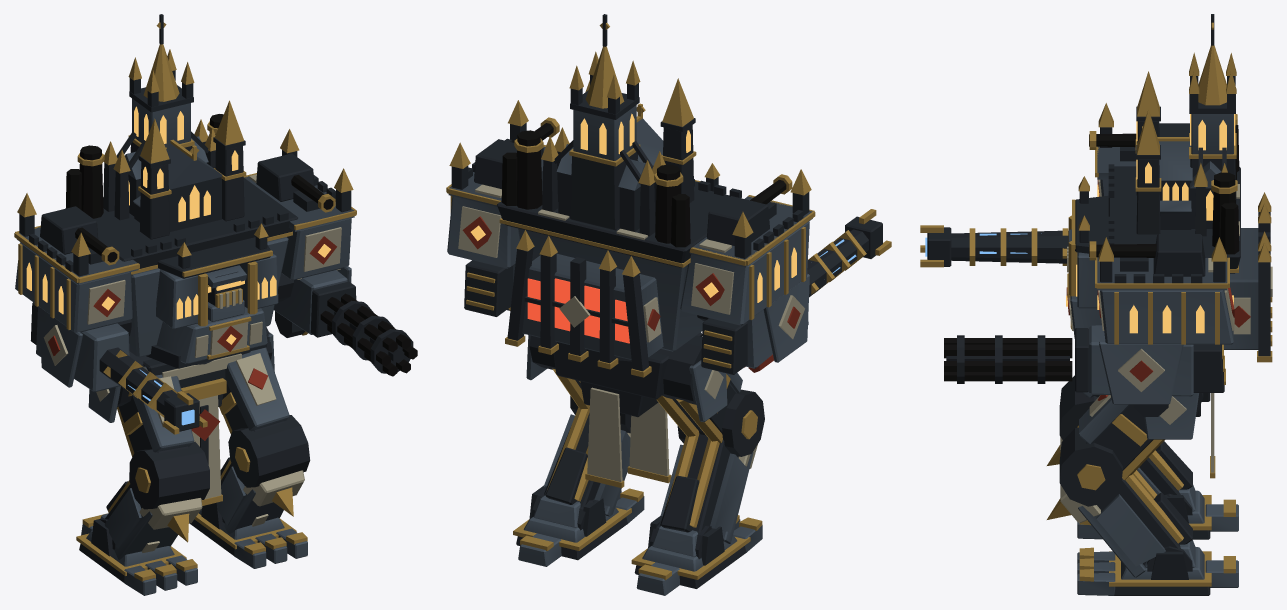
The model's file is colossus.glb.
3 renders of one model, left to right at view 1: azimuth 30°, elevation 25°; view 2: azimuth 150°, elevation 25°; view 3: azimuth 270°, elevation 25°, orthographic. The views are drawn at different scales.
Parts seen in each view (by area): view 1: torso, arm_R, thigh_L, thigh_R, pelvis, foot_R, shin_R, barrels_L, foot_L, arm_L, shin_L, head; view 2: torso, pelvis, arm_R, shin_R, foot_R, foot_L, shin_L, thigh_R, arm_L, thigh_L; view 3: torso, arm_L, thigh_L, shin_L, foot_L, barrels_L, arm_R, foot_R, pelvis, shin_R, thigh_R.
Part boxes in pixels (x1,y1,x2,y2): torso: [14, 14, 356, 368]; arm_R: [30, 302, 207, 434]; thigh_L: [219, 347, 310, 487]; thigh_R: [117, 366, 209, 509]; pelvis: [88, 327, 274, 505]; foot_R: [76, 513, 197, 595]; shin_R: [99, 480, 202, 559]; barrels_L: [320, 293, 417, 376]; foot_L: [190, 502, 307, 568]; arm_L: [273, 266, 356, 337]; shin_L: [216, 457, 304, 533]; head: [206, 265, 246, 321]; torso: [446, 14, 815, 377]; pelvis: [526, 332, 727, 488]; arm_R: [697, 209, 891, 374]; shin_R: [650, 430, 757, 559]; foot_R: [631, 515, 762, 595]; foot_L: [513, 485, 644, 566]; shin_L: [531, 405, 630, 530]; thigh_R: [656, 372, 764, 456]; arm_L: [464, 260, 515, 316]; thigh_L: [552, 368, 631, 433]; torso: [1066, 14, 1272, 362]; arm_L: [1075, 325, 1225, 416]; thigh_L: [1059, 395, 1164, 506]; shin_L: [1047, 470, 1192, 577]; foot_L: [1077, 540, 1238, 595]; barrels_L: [944, 335, 1072, 383]; arm_R: [920, 225, 1068, 267]; foot_R: [1077, 485, 1238, 539]; pelvis: [1144, 393, 1215, 478]; shin_R: [1047, 437, 1192, 515]; thigh_R: [1059, 375, 1099, 440].
Bounding box in the file's own units: 72.3 × 125 × 74.1.
